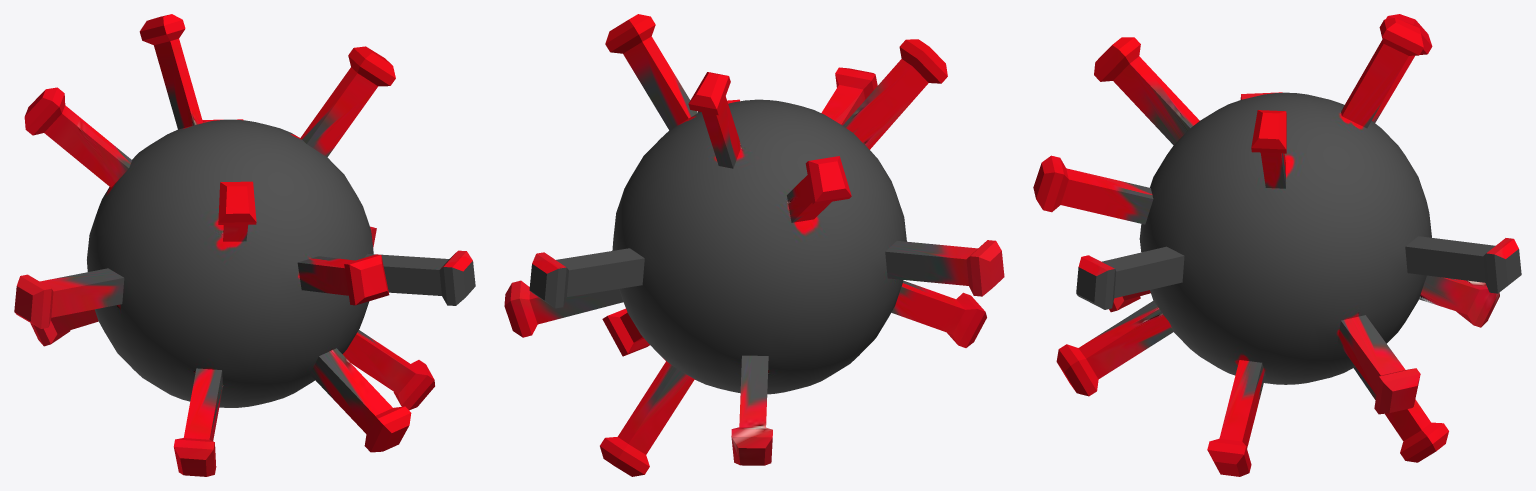
File: Monster(virus).fbx
3 views of the same model, side by side, from view 1: azimuth 30°, elevation 25°; view 2: azimuth 150°, elevation 25°; view 3: azimuth 270°, elevation 25° (orthographic). The views are drawn at different scales.
Visible parts, largest first — view 1: Sphere001; view 2: Sphere001; view 3: Sphere001.
Part boxes in pixels (x1,y1,x2,y2): Sphere001: (14, 14, 475, 476); Sphere001: (504, 14, 1004, 476); Sphere001: (1033, 14, 1521, 476).
Size of the model in its own units: 69.18 by 63.11 by 69.08.
